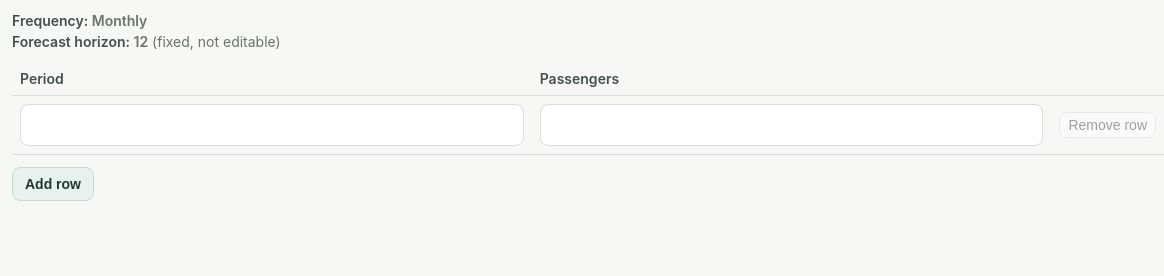
Test case: HistorySeriesInput (Project Spec S0250) › removes a row while retaining at least one renderable row
The image size is (1164, 276).
Click the button "Add row" at [53, 184], box [12,167,94,201]
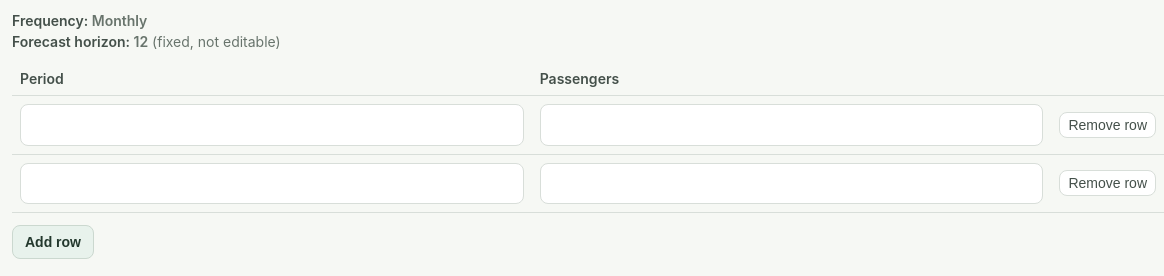
Expected: the number of fields named "Period" is 2, [20,104,524,146]; [20,163,524,204]
Click the 1st button "Remove row" at [1108, 125], box [1059,112,1156,138]
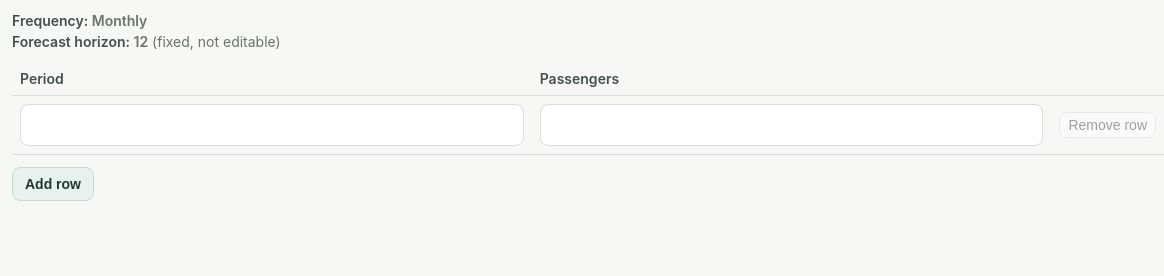
Expected: the number of fields named "Period" is 1, [20,104,524,146]
